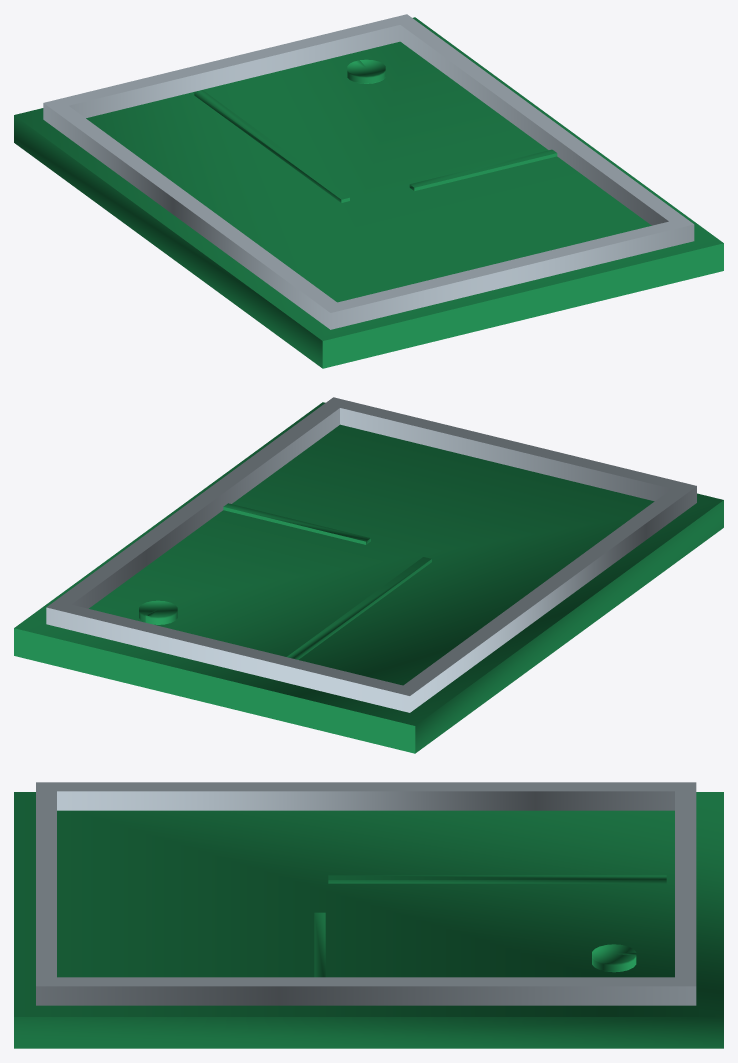
File: Level23.fbx
The picture shows the model from 3 angles, top to bottom: view 1: azimuth 30°, elevation 25°; view 2: azimuth 150°, elevation 25°; view 3: azimuth 270°, elevation 25°; orthographic projection. The views are drawn at different scales.
Parts seen in each view (by area): view 1: Box002, Rectangle0; view 2: Box002, Rectangle0; view 3: Box002, Rectangle0.
Part boxes in pixels (x1,y1,x2,y2): Box002: [14, 17, 723, 368]; Rectangle0: [43, 14, 694, 329]; Box002: [14, 402, 723, 753]; Rectangle0: [46, 397, 696, 712]; Box002: [14, 792, 723, 1048]; Rectangle0: [36, 782, 696, 1005].
Bounding box in the file's own units: 135 × 14.27 × 180.
